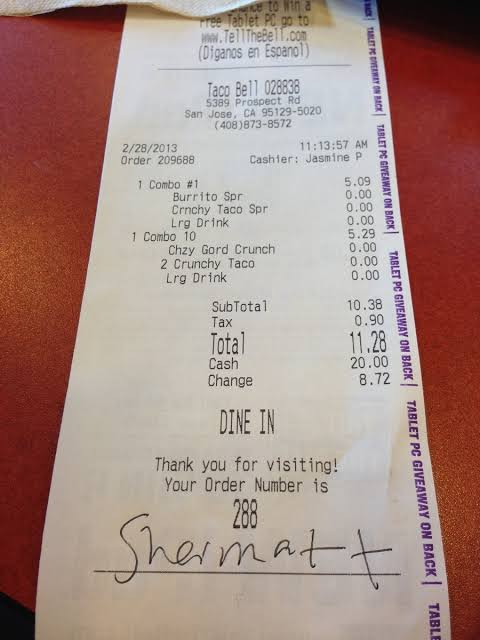Taco Bell: (201, 74, 263, 99)
